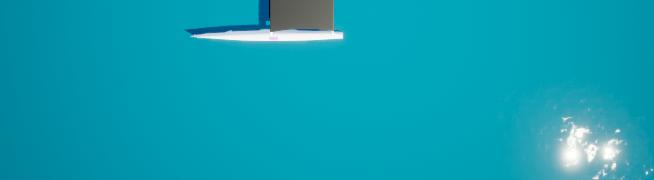boat: (187, 0, 349, 46)
drone: (271, 0, 333, 31)
land_base: (521, 97, 654, 180)
